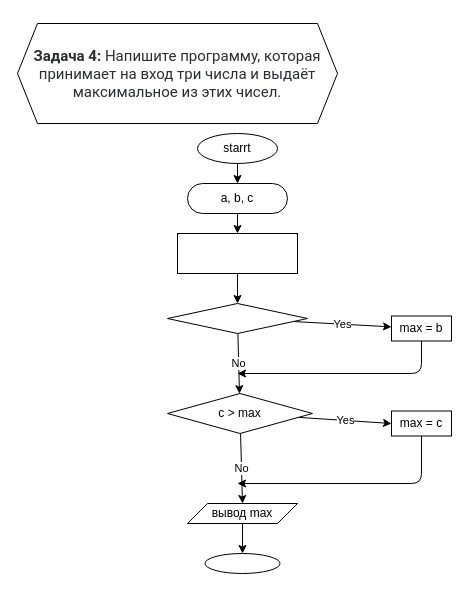
The diagram is 469 pixels wide and 591 high, and some of its shapes have lost their labels. The centre of each missing label's shape, as x and y in pixels:
b > max: the point at 237,318
end: the point at 242,563
max = a: the point at 237,253
